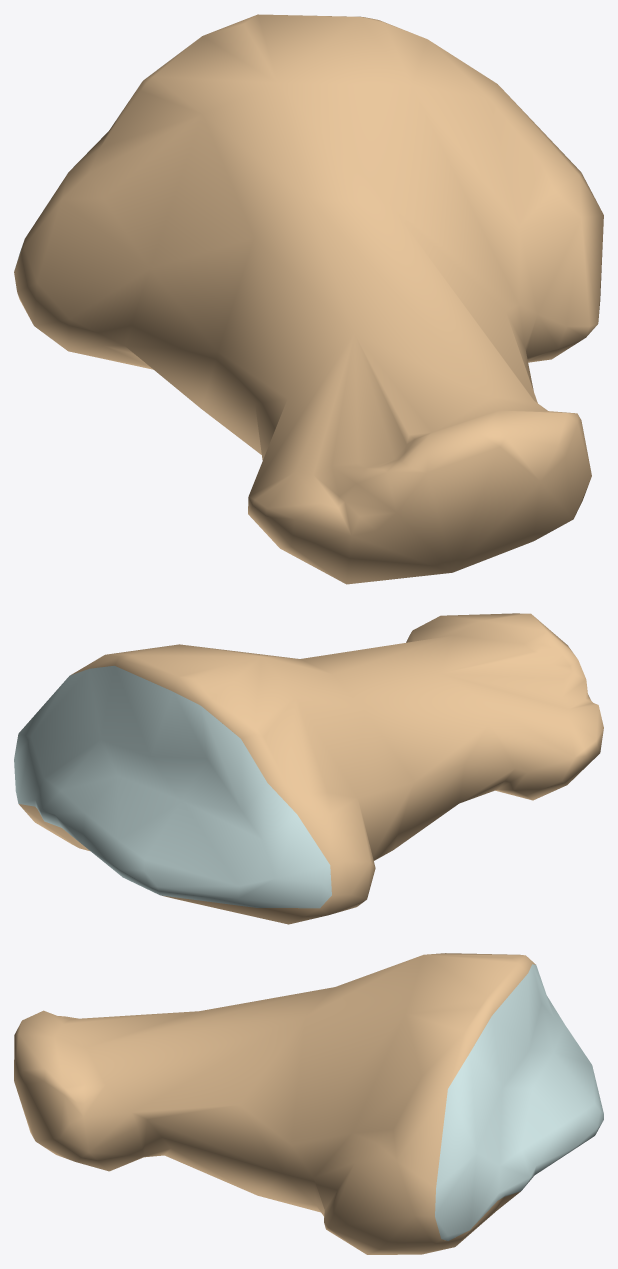
The model's file is Distal_phalanx_first_finger_foot_right.glb.
The picture shows the model from 3 angles, top to bottom: view 1: azimuth 30°, elevation 25°; view 2: azimuth 150°, elevation 25°; view 3: azimuth 270°, elevation 25°; orthographic projection. The views are drawn at different scales.
Parts seen in each view (by area): view 1: Distal_phalanx_of_1st_finger_of_foot.r_Generated_Mesh_From_X; view 2: Distal_phalanx_of_1st_finger_of_foot.r_Generated_Mesh_From_X; view 3: Distal_phalanx_of_1st_finger_of_foot.r_Generated_Mesh_From_X.
Part boxes in pixels (box(x1,y1,x2,y2)): Distal_phalanx_of_1st_finger_of_foot.r_Generated_Mesh_From_X: box(14, 14, 603, 584); Distal_phalanx_of_1st_finger_of_foot.r_Generated_Mesh_From_X: box(14, 613, 603, 924); Distal_phalanx_of_1st_finger_of_foot.r_Generated_Mesh_From_X: box(14, 953, 603, 1254).
Bounding box in the file's own units: 0.0208 × 0.0115 × 0.0269.
